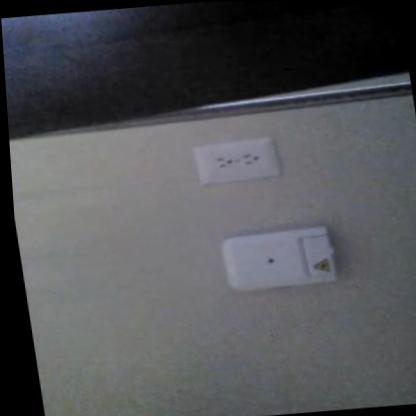OUTLET: (193, 134, 281, 186)
